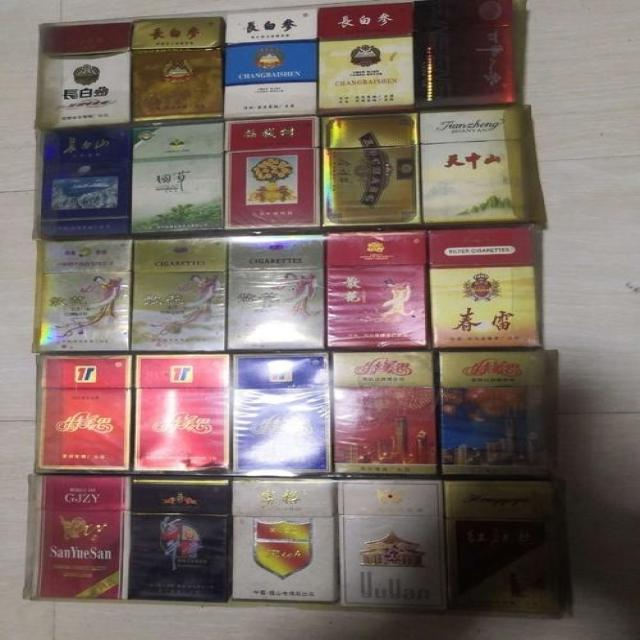box: (442, 481, 559, 620), (440, 351, 557, 474), (428, 227, 543, 348), (338, 481, 447, 608), (329, 351, 438, 477), (230, 478, 338, 604), (416, 108, 530, 224), (129, 476, 230, 604), (27, 476, 129, 602), (230, 352, 333, 476), (325, 230, 430, 349), (131, 353, 229, 475), (225, 234, 325, 353), (319, 113, 421, 227), (221, 116, 321, 230), (319, 2, 416, 118), (133, 236, 227, 353), (221, 8, 319, 120), (36, 240, 133, 353), (37, 124, 132, 239), (36, 354, 129, 471), (417, 1, 516, 108), (132, 122, 224, 234), (132, 14, 224, 122), (42, 21, 132, 130)
